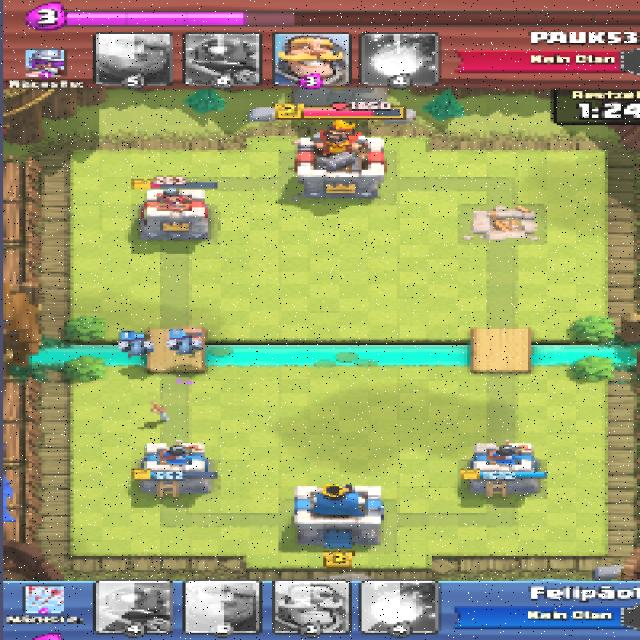Player-Minion: (166, 336, 204, 358), (119, 338, 154, 357)
